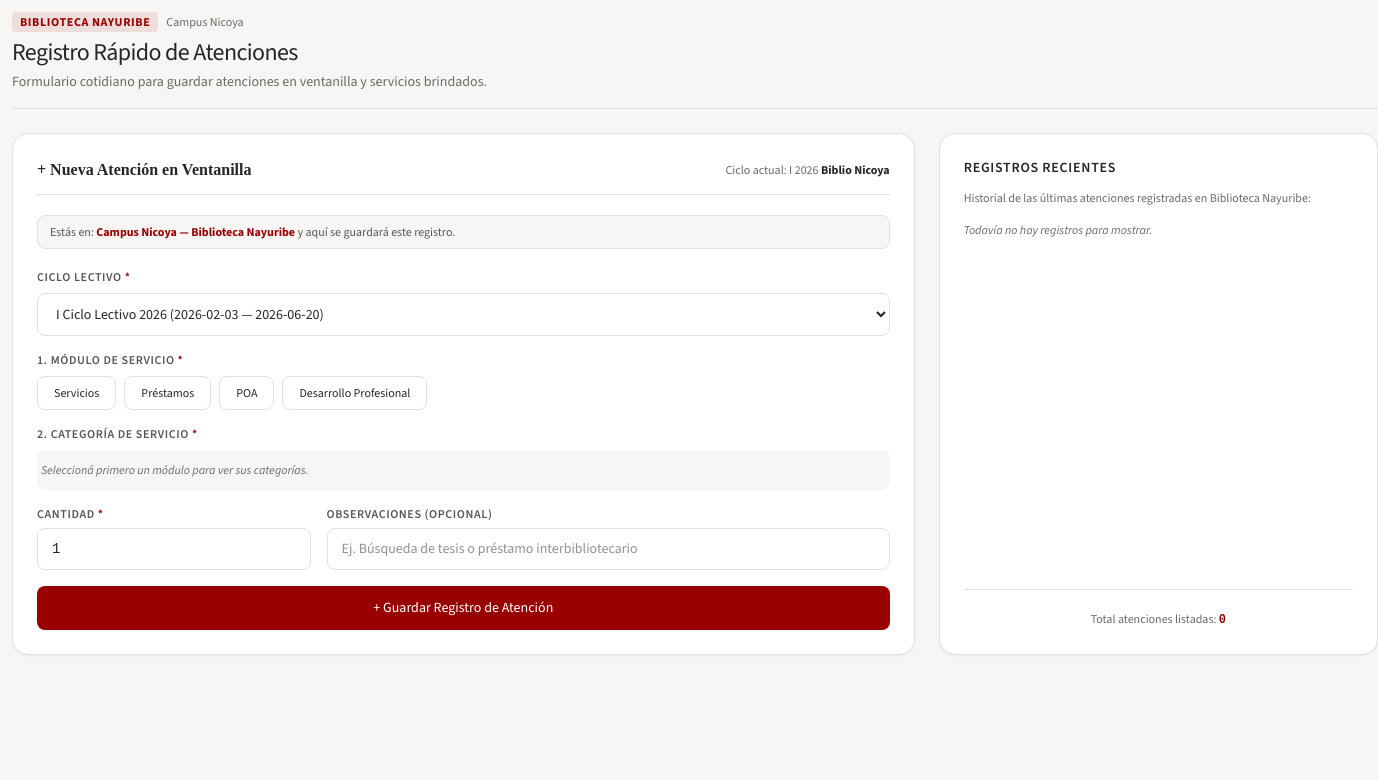
Scenario: QuickRegisterView (registro de atenciones) › seleccionar categoría y guardar dispara la api con los datos correctos
This screenshot has width=1378, height=780.
What coordinates should you click on to do the following:
click the button "Servicios"
I would click on:
 (77, 393)
Its box is left=37, top=376, right=116, bottom=410.
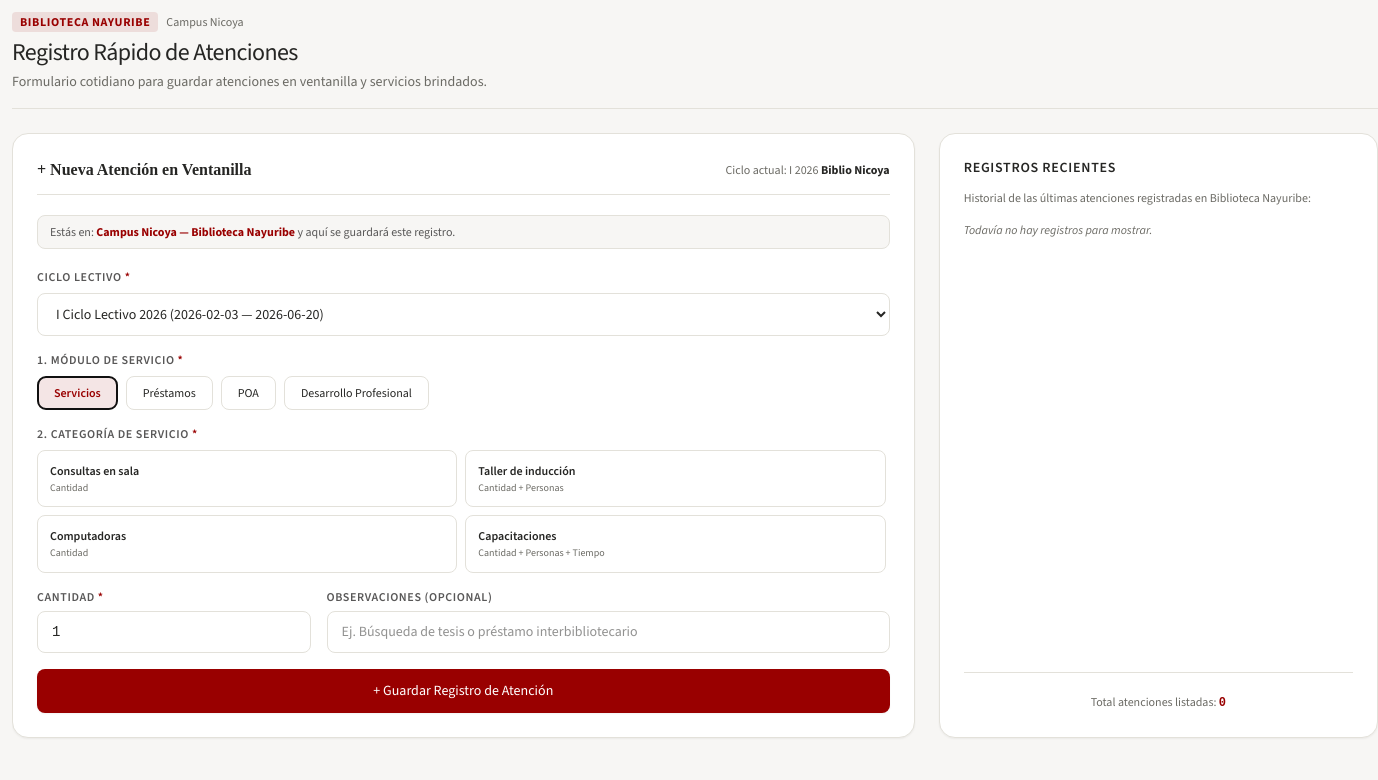
What coordinates should you click on to do the following:
click the text "Consultas en sala"
I would click on:
 (95, 471)
Its box is left=50, top=463, right=139, bottom=479.
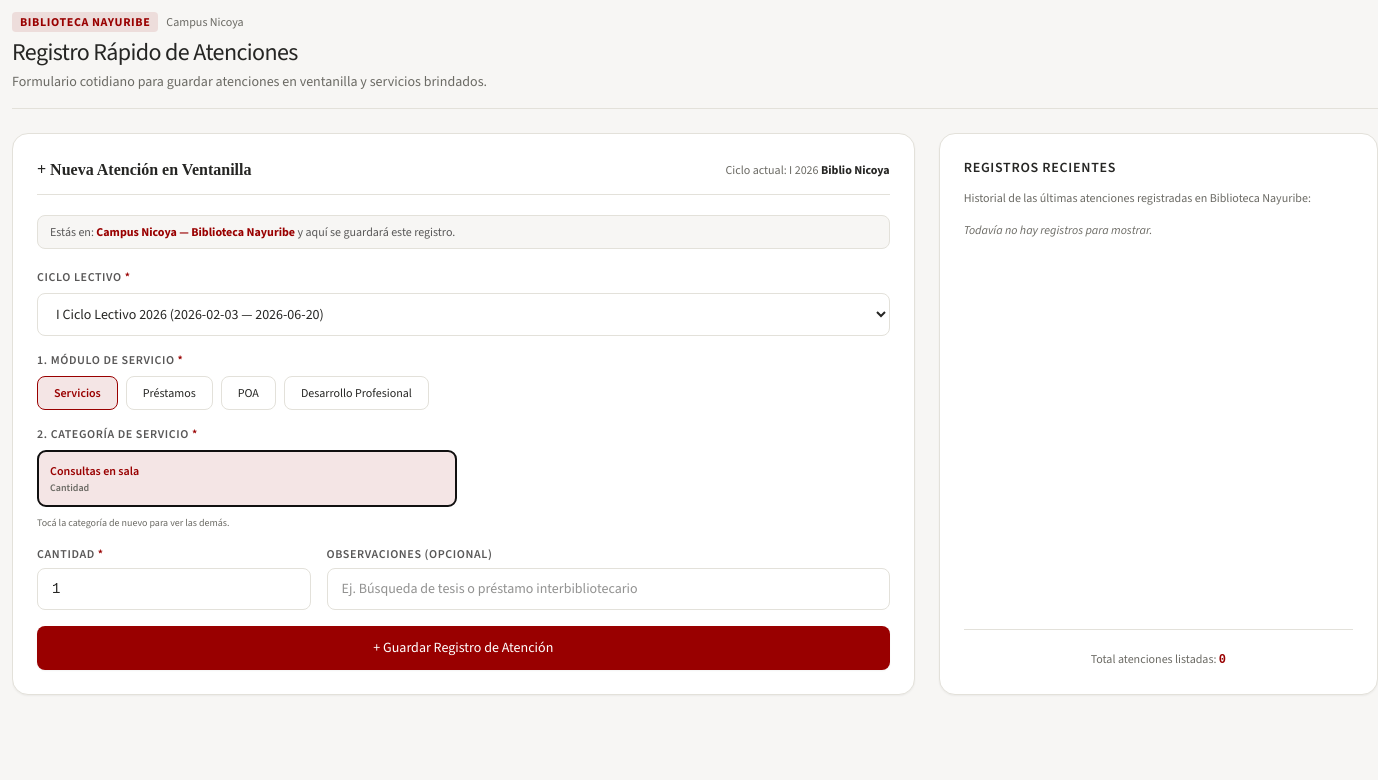
What coordinates should you click on to do the following:
click the button "+ Guardar Registro de Atención"
I would click on:
 (463, 648)
Its box is left=37, top=626, right=890, bottom=670.
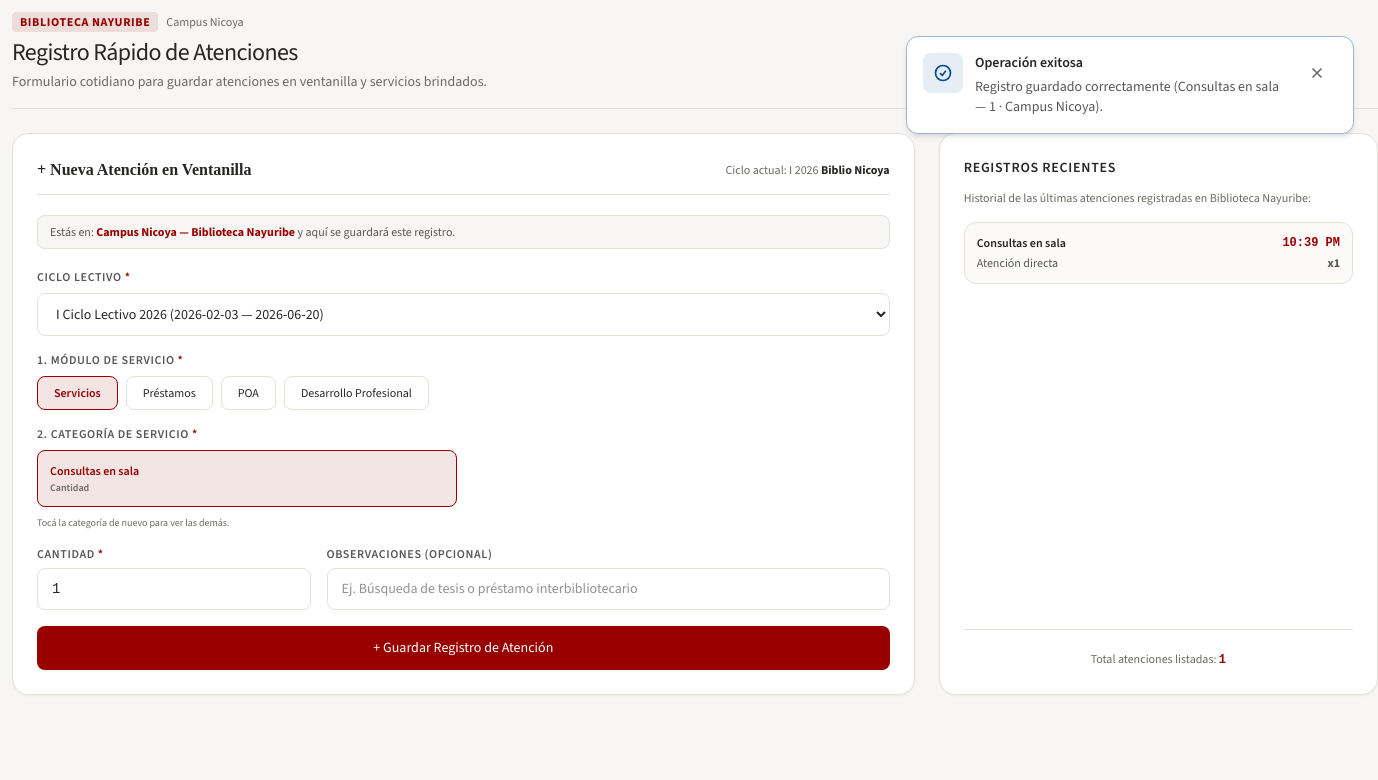
Expected: the message shows "Registro guardado correctamente", left=975, top=77, right=1279, bottom=116
Expected: the message shows "Consultas en sala", left=975, top=77, right=1279, bottom=116
Expected: the message shows "Campus Nicoya", left=975, top=77, right=1279, bottom=116
What coordinates should you click on to do the following:
click the button named "Cerrar aviso"
I would click on:
 (1317, 73)
Its box is left=1297, top=53, right=1337, bottom=93.
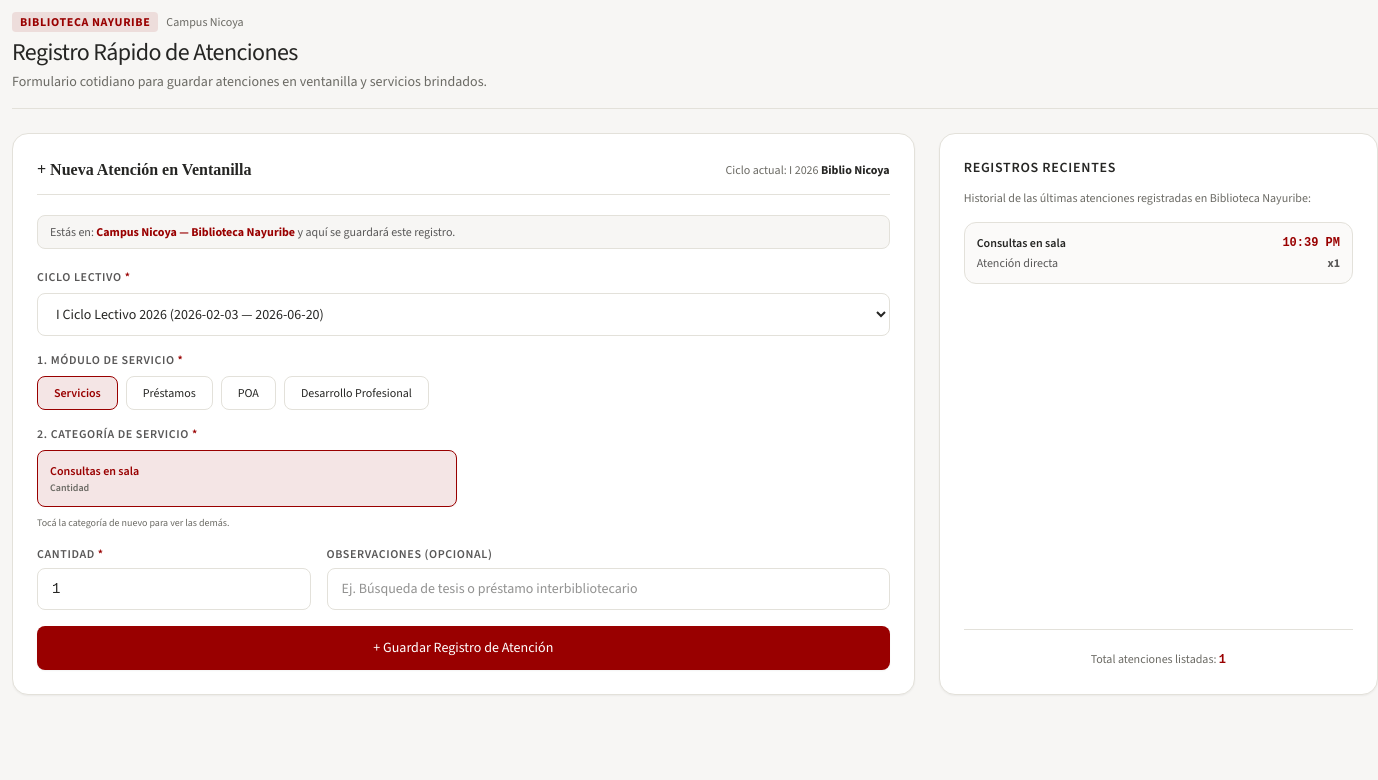
Expected: the message is gone
